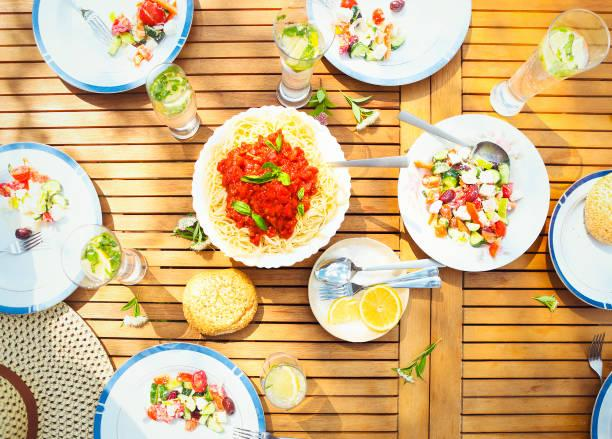Braised Crucian Carp: (191, 105, 350, 267), (399, 113, 548, 272), (590, 367, 612, 437)
